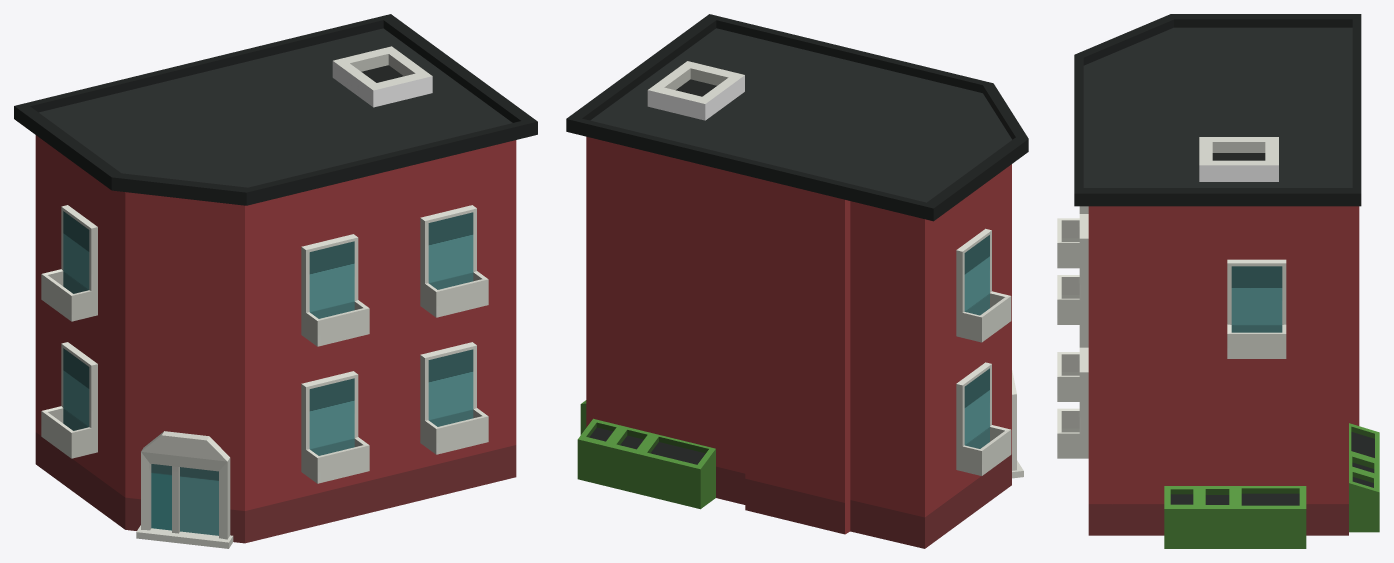
The model's file is Corner House.fbx.
3 renders of one model, left to right at view 1: azimuth 30°, elevation 25°; view 2: azimuth 150°, elevation 25°; view 3: azimuth 270°, elevation 25°, orthographic. The views are drawn at different scales.
Visible parts, largest first — view 1: Corner House; view 2: Corner House; view 3: Corner House.
Part boxes in pixels (<box>): Corner House: <box>14,14,537,548</box>; Corner House: <box>566,14,1028,548</box>; Corner House: <box>1057,14,1379,548</box>.
Bounding box in the file's own units: 4.26 × 3.72 × 3.03.
